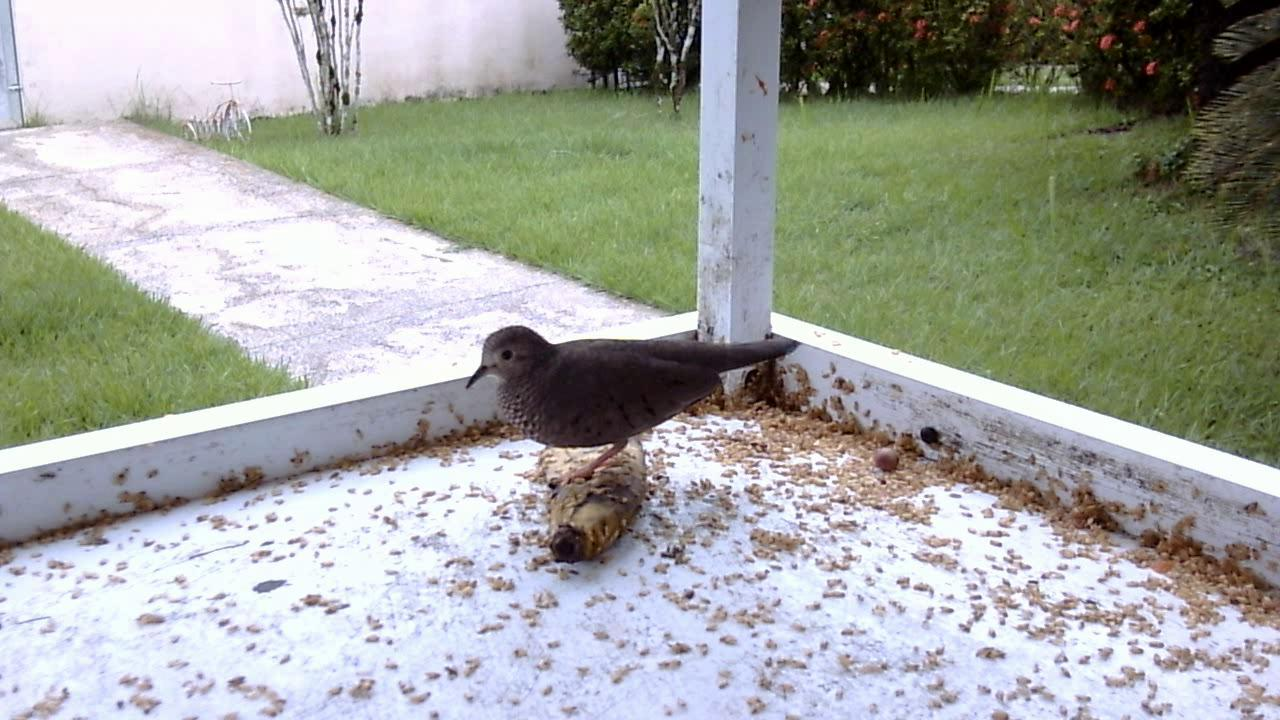rolinha: (461, 315, 797, 510)
